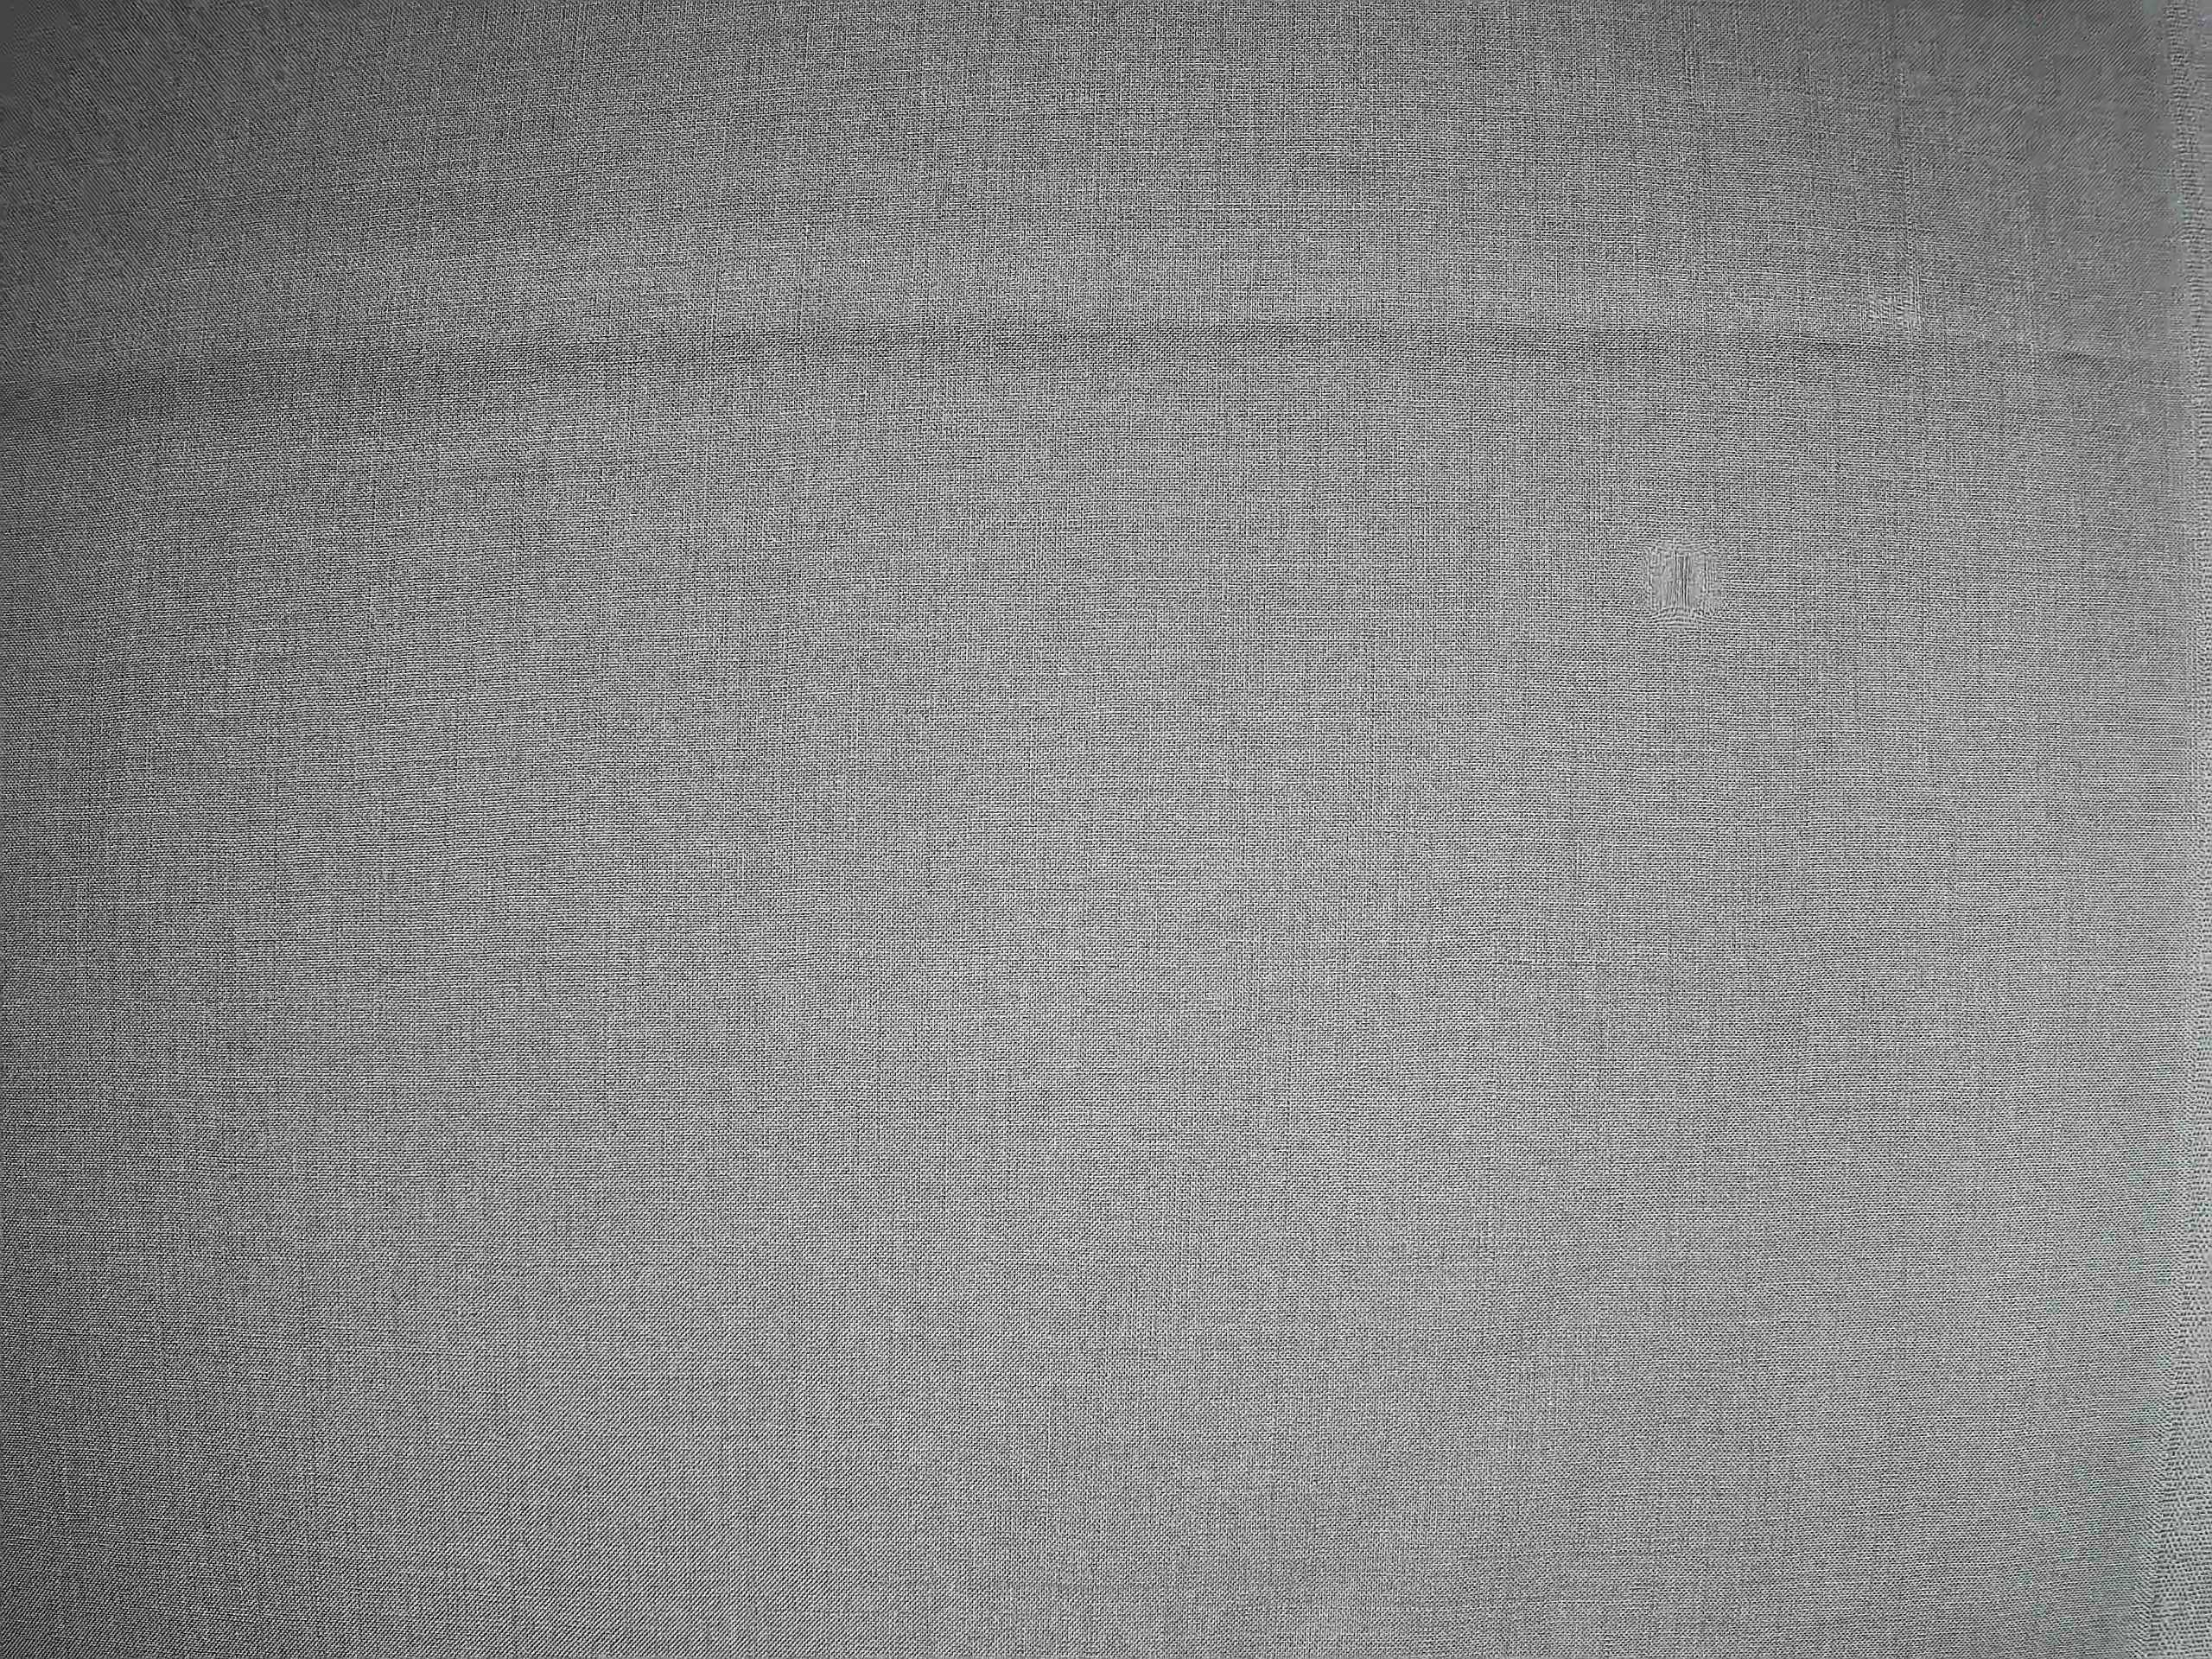brushed-hole: (1618, 525, 1743, 638)
